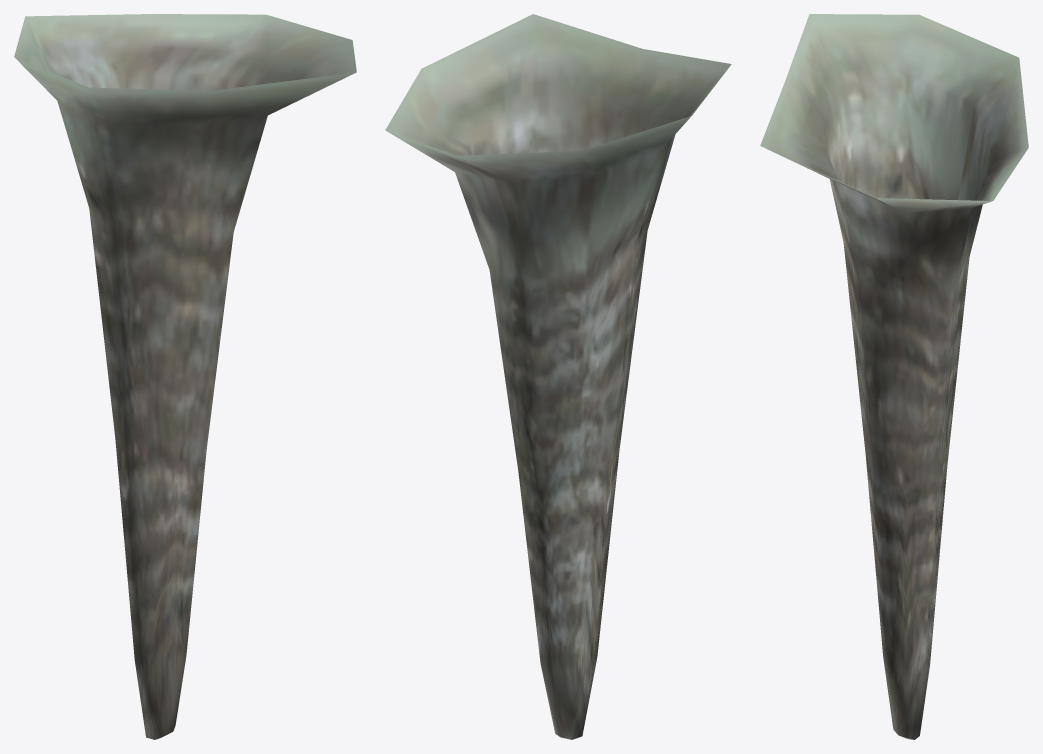
File: TROLLHOLE02_PS-UPPERSTALAG07.fbx
3 views of the same model, side by side, from view 1: azimuth 30°, elevation 25°; view 2: azimuth 150°, elevation 25°; view 3: azimuth 270°, elevation 25° (orthographic). The views are drawn at different scales.
Visible parts, largest first — view 1: TROLLHOLE02_PS-UPPERSTALAG07; view 2: TROLLHOLE02_PS-UPPERSTALAG07; view 3: TROLLHOLE02_PS-UPPERSTALAG07.
Part boxes in pixels (x1,y1,x2,y2): TROLLHOLE02_PS-UPPERSTALAG07: (14,14,356,739); TROLLHOLE02_PS-UPPERSTALAG07: (385,14,731,739); TROLLHOLE02_PS-UPPERSTALAG07: (760,14,1028,739).
Size of the model in its own units: 15174 by 33047 by 12034.
Materials: 1 (1 with a texture image).
